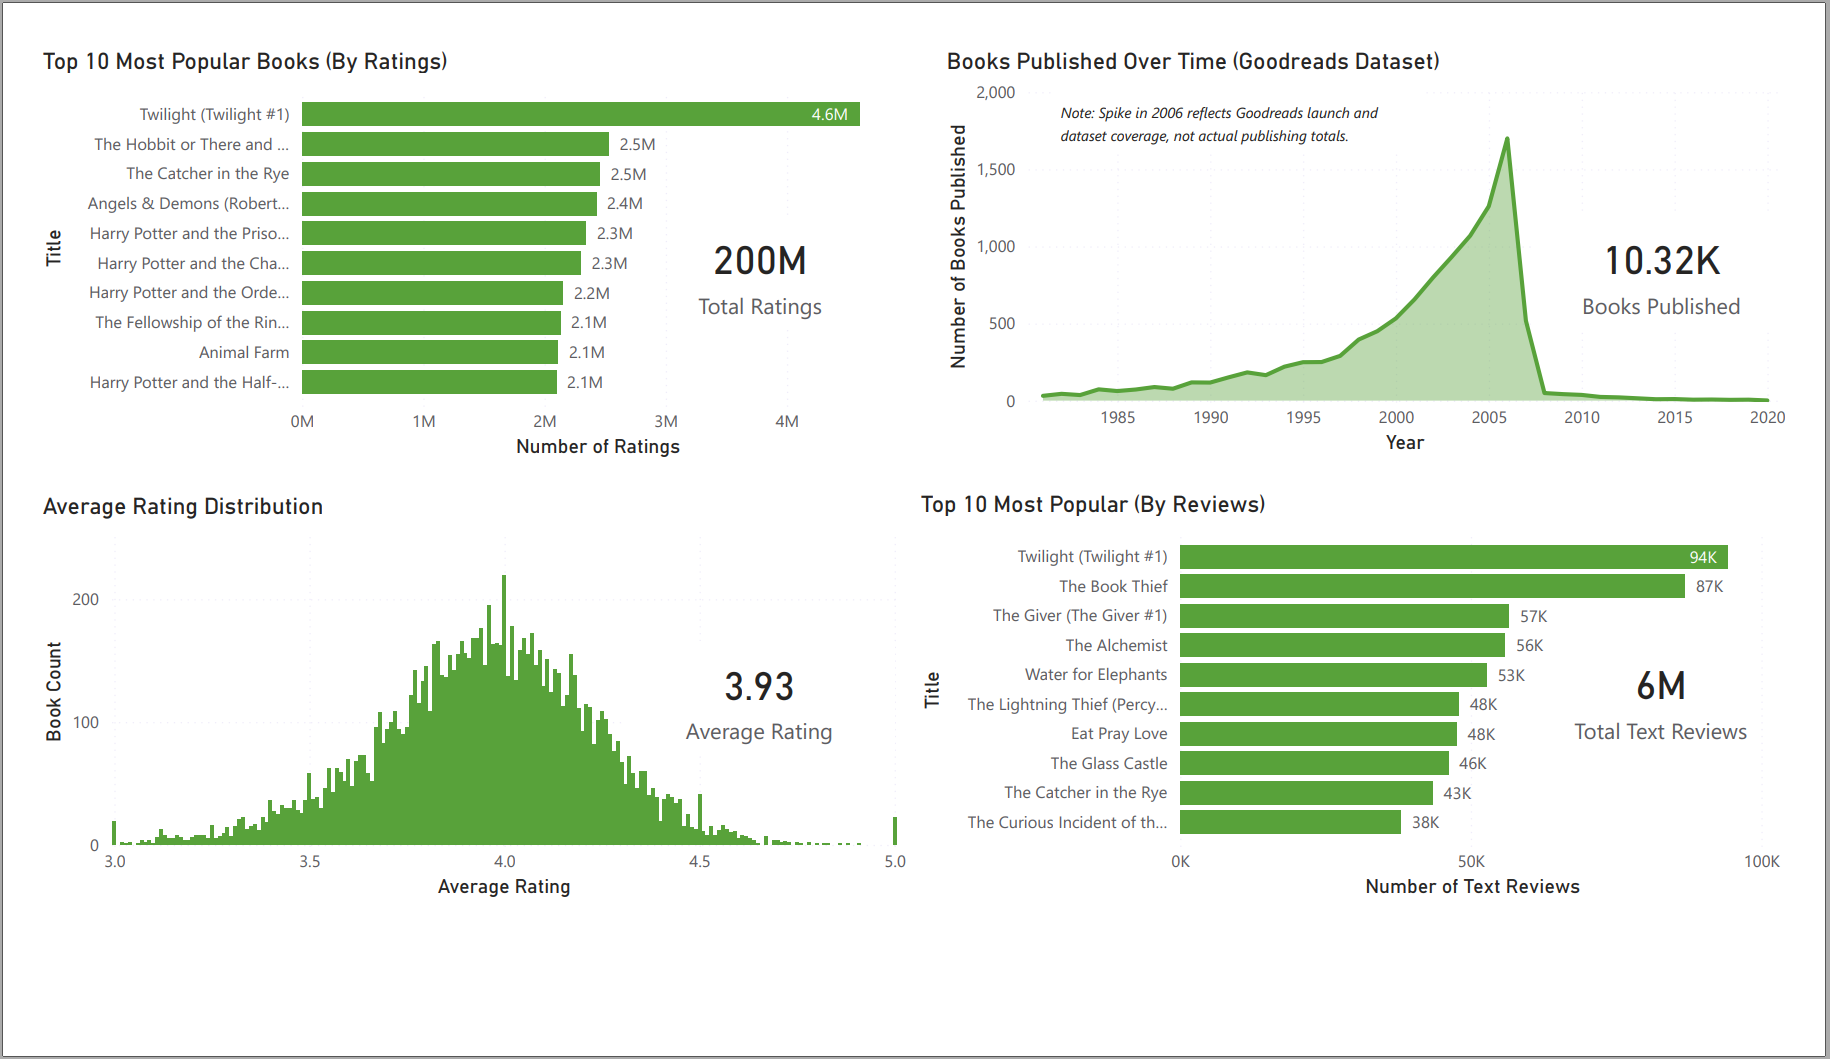

Layout of this report page (visuals, bound fields, positions):
{"tool":"powerbi","page":{"name":"Page 1","canvas":[1280,720],"ordinal":0},"visuals":[{"type":"clusteredBarChart","title":"Top 10 Most Popular Books (By Ratings)","fields":{"Category":["goodreads.title"],"Y":["goodreads.ratings_count"]},"box":[0,8.1,640.1,304.2],"z":0},{"type":"clusteredBarChart","title":"Top 10 Most Popular (By Reviews)","fields":{"Category":["goodreads.title"],"Y":["goodreads.text_reviews_count"]},"box":[640.1,331.5,640.1,301.1],"z":1000},{"type":"areaChart","title":"Books Published Over Time (Goodreads Dataset)","fields":{"Category":["goodreads.publication_date.Variation.Date Hierarchy.Year","goodreads.publication_date.Variation.Date Hierarchy.Quarter","goodreads.publication_date.Variation.Date Hierarchy.Month","goodreads.publication_date.Variation.Date Hierarchy.Day"],"Y":["goodreads.bookID"]},"box":[658.7,8.1,621.5,301.1],"z":2000},{"type":"columnChart","title":"Average Rating Distribution","fields":{"Category":["goodreads.average_rating"],"Y":["goodreads.bookID"]},"box":[0,332.7,640.1,299.9],"z":3000},{"type":"card","fields":{"Values":["goodreads.ratings_count"]},"box":[470.9,132,114,81.2],"z":4000},{"type":"card","fields":{"Values":["goodreads.text_reviews_count"]},"box":[1115.9,439.3,136.9,85.5],"z":5000},{"type":"card","fields":{"Values":["goodreads.title"]},"box":[1089.9,131.4,190.2,83],"z":6000},{"type":"card","fields":{"Values":["goodreads.average_rating"]},"box":[428.8,442.4,197.7,80.6],"z":7000},{"type":"textbox","box":[742.3,40.9,270.8,44.6],"z":8000}]}

Visuals, with their boxes on the page's 1280x720 design canvas (x1, y1, x2, y2). These are canvas units, not pixel positions in the 1830x1059 screenshot, which may show the page scaled, cropped or inside an application window:
"Top 10 Most Popular Books (By Ratings)" clusteredBarChart: x1=0, y1=8, x2=640, y2=312
"Top 10 Most Popular (By Reviews)" clusteredBarChart: x1=640, y1=332, x2=1280, y2=633
"Books Published Over Time (Goodreads Dataset)" areaChart: x1=659, y1=8, x2=1280, y2=309
"Average Rating Distribution" columnChart: x1=0, y1=333, x2=640, y2=633
card - goodreads.ratings_count: x1=471, y1=132, x2=585, y2=213
card - goodreads.text_reviews_count: x1=1116, y1=439, x2=1253, y2=525
card - goodreads.title: x1=1090, y1=131, x2=1280, y2=214
card - goodreads.average_rating: x1=429, y1=442, x2=626, y2=523
textbox: x1=742, y1=41, x2=1013, y2=86
